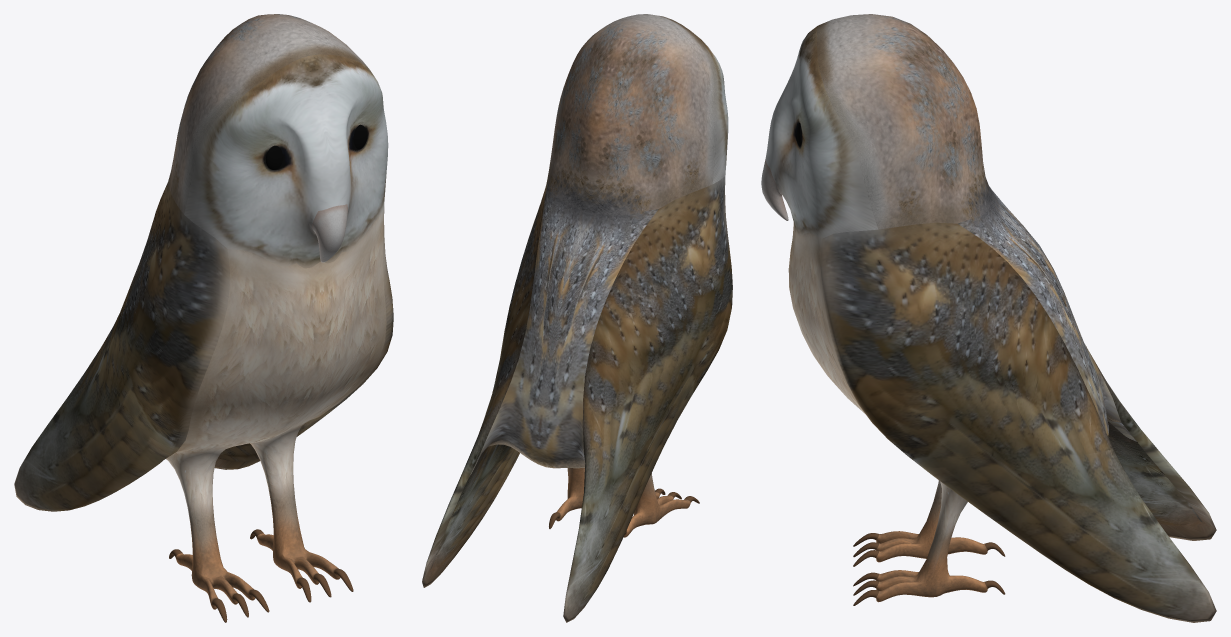
The model's file is Lechuza.glb.
3 renders of one model, left to right at view 1: azimuth 30°, elevation 25°; view 2: azimuth 150°, elevation 25°; view 3: azimuth 270°, elevation 25°, orthographic. The views are drawn at different scales.
Parts seen in each view (by area): view 1: Tyto alba; view 2: Tyto alba; view 3: Tyto alba.
Boxes of the visible parts, x1,y1,x2,y2 form: Tyto alba: (14, 14, 393, 622); Tyto alba: (422, 14, 732, 622); Tyto alba: (761, 14, 1216, 622).
Size of the model in its own units: 3.37 by 8.44 by 6.2.
Materials: 1 (1 with a texture image).
